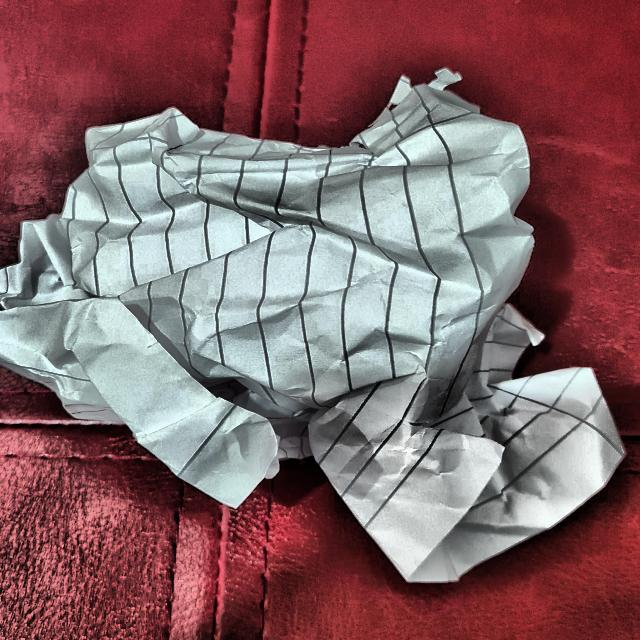paper: (0, 74, 609, 564)
